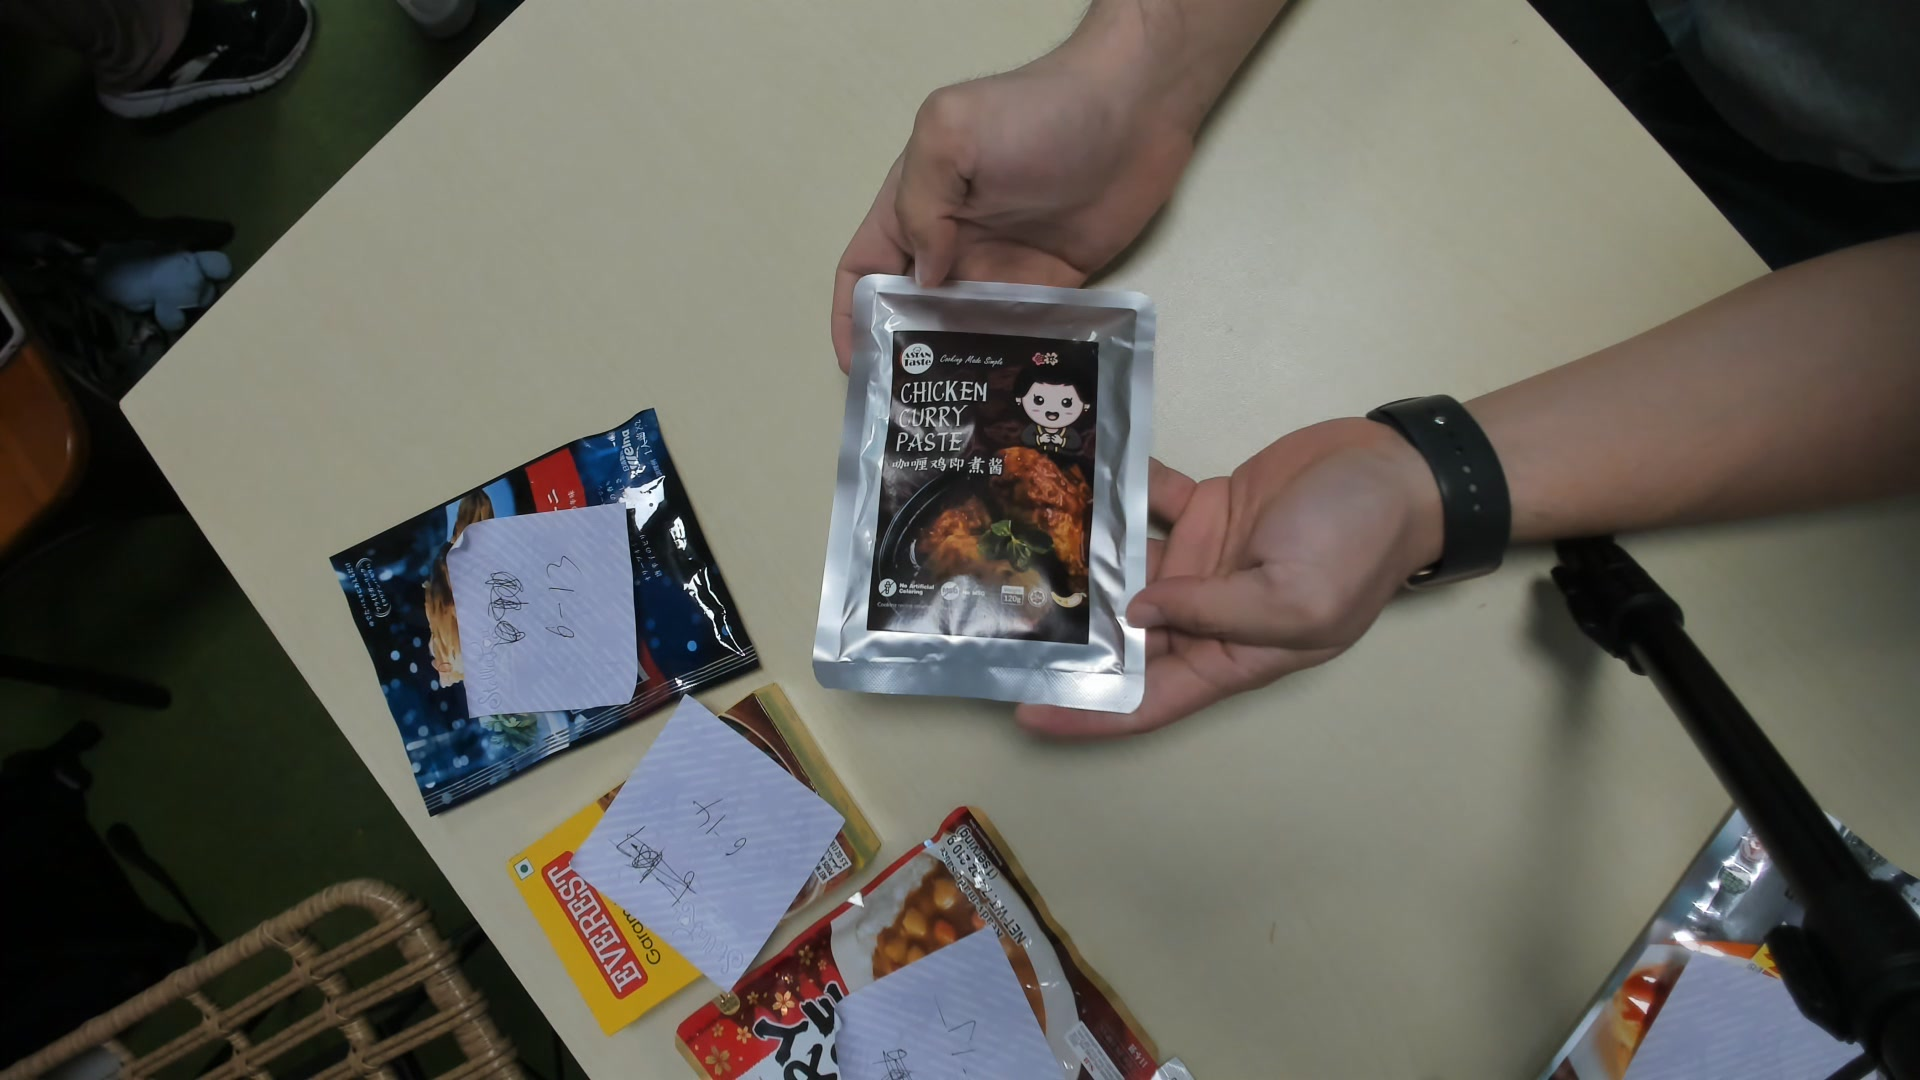CurryPastePowderSauce_100-199g_Halal_NonHealthy: (819, 277, 1145, 719)
